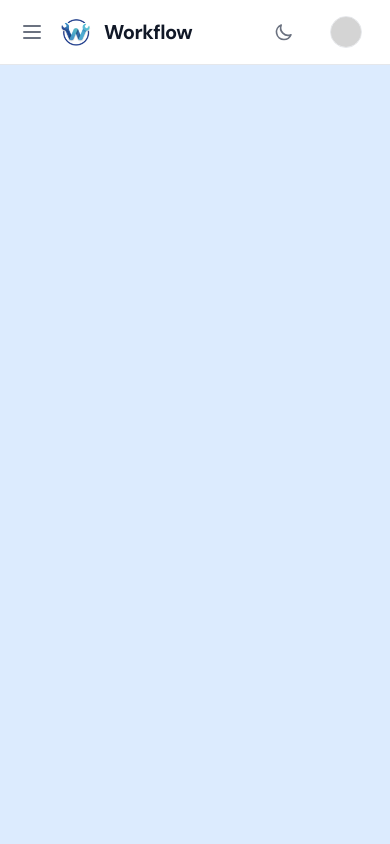
Test: the close control is the same button in the same place
The width and height of the screenshot is (390, 844).
Click the button named "Open navigation" at [32, 32], box [12,12,52,52]
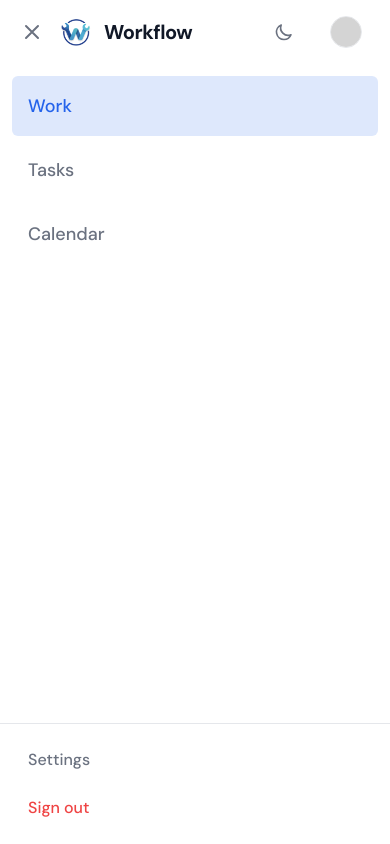
Click the button named "Close navigation" at [32, 32], box [12,12,52,52]
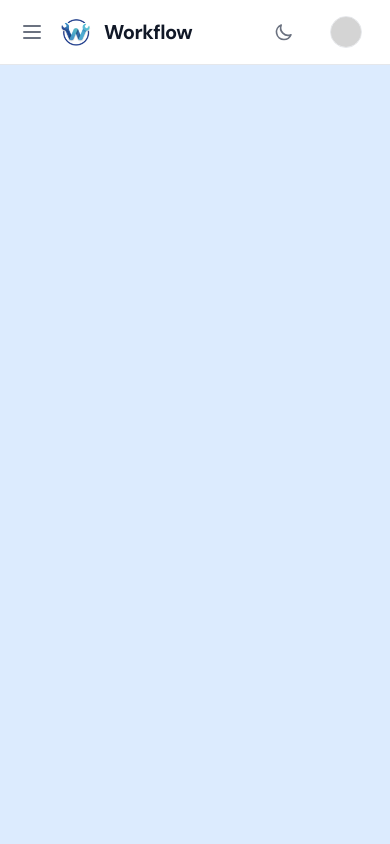
Result: the element with class "inset-x-0" is gone
